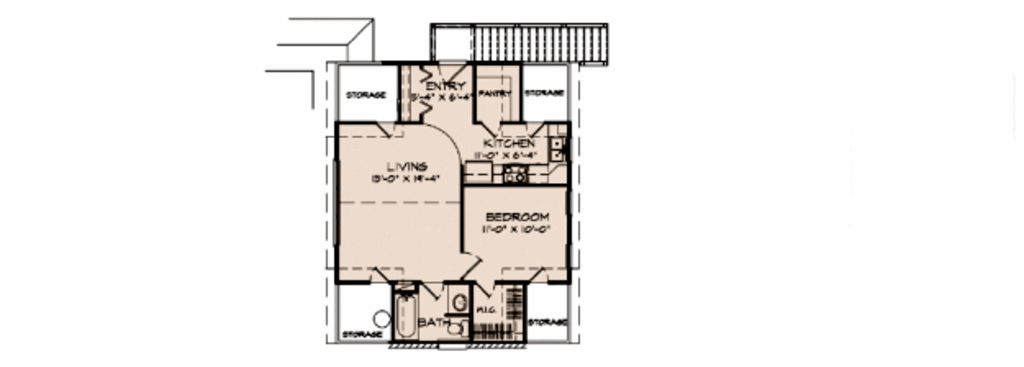door: (420, 281, 453, 309), (365, 259, 394, 286), (376, 115, 397, 146), (525, 265, 554, 286), (460, 253, 481, 280), (478, 278, 502, 298)
large_sink: (444, 311, 472, 340)
small_sink: (453, 283, 475, 316)
stairs: (473, 16, 620, 69)
tub: (394, 289, 425, 344)
twin_sink: (545, 137, 582, 165)
